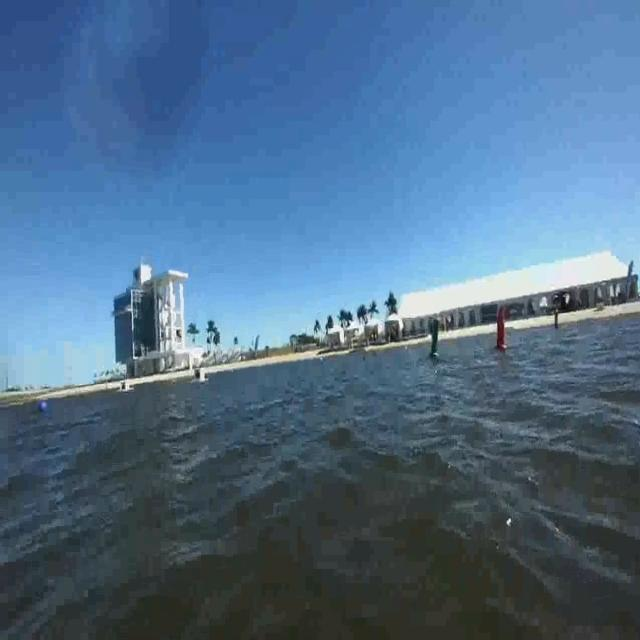blue-buoy: (36, 392, 48, 412)
green-column-buoy: (424, 306, 449, 367)
red-column-buoy: (491, 298, 511, 357)
